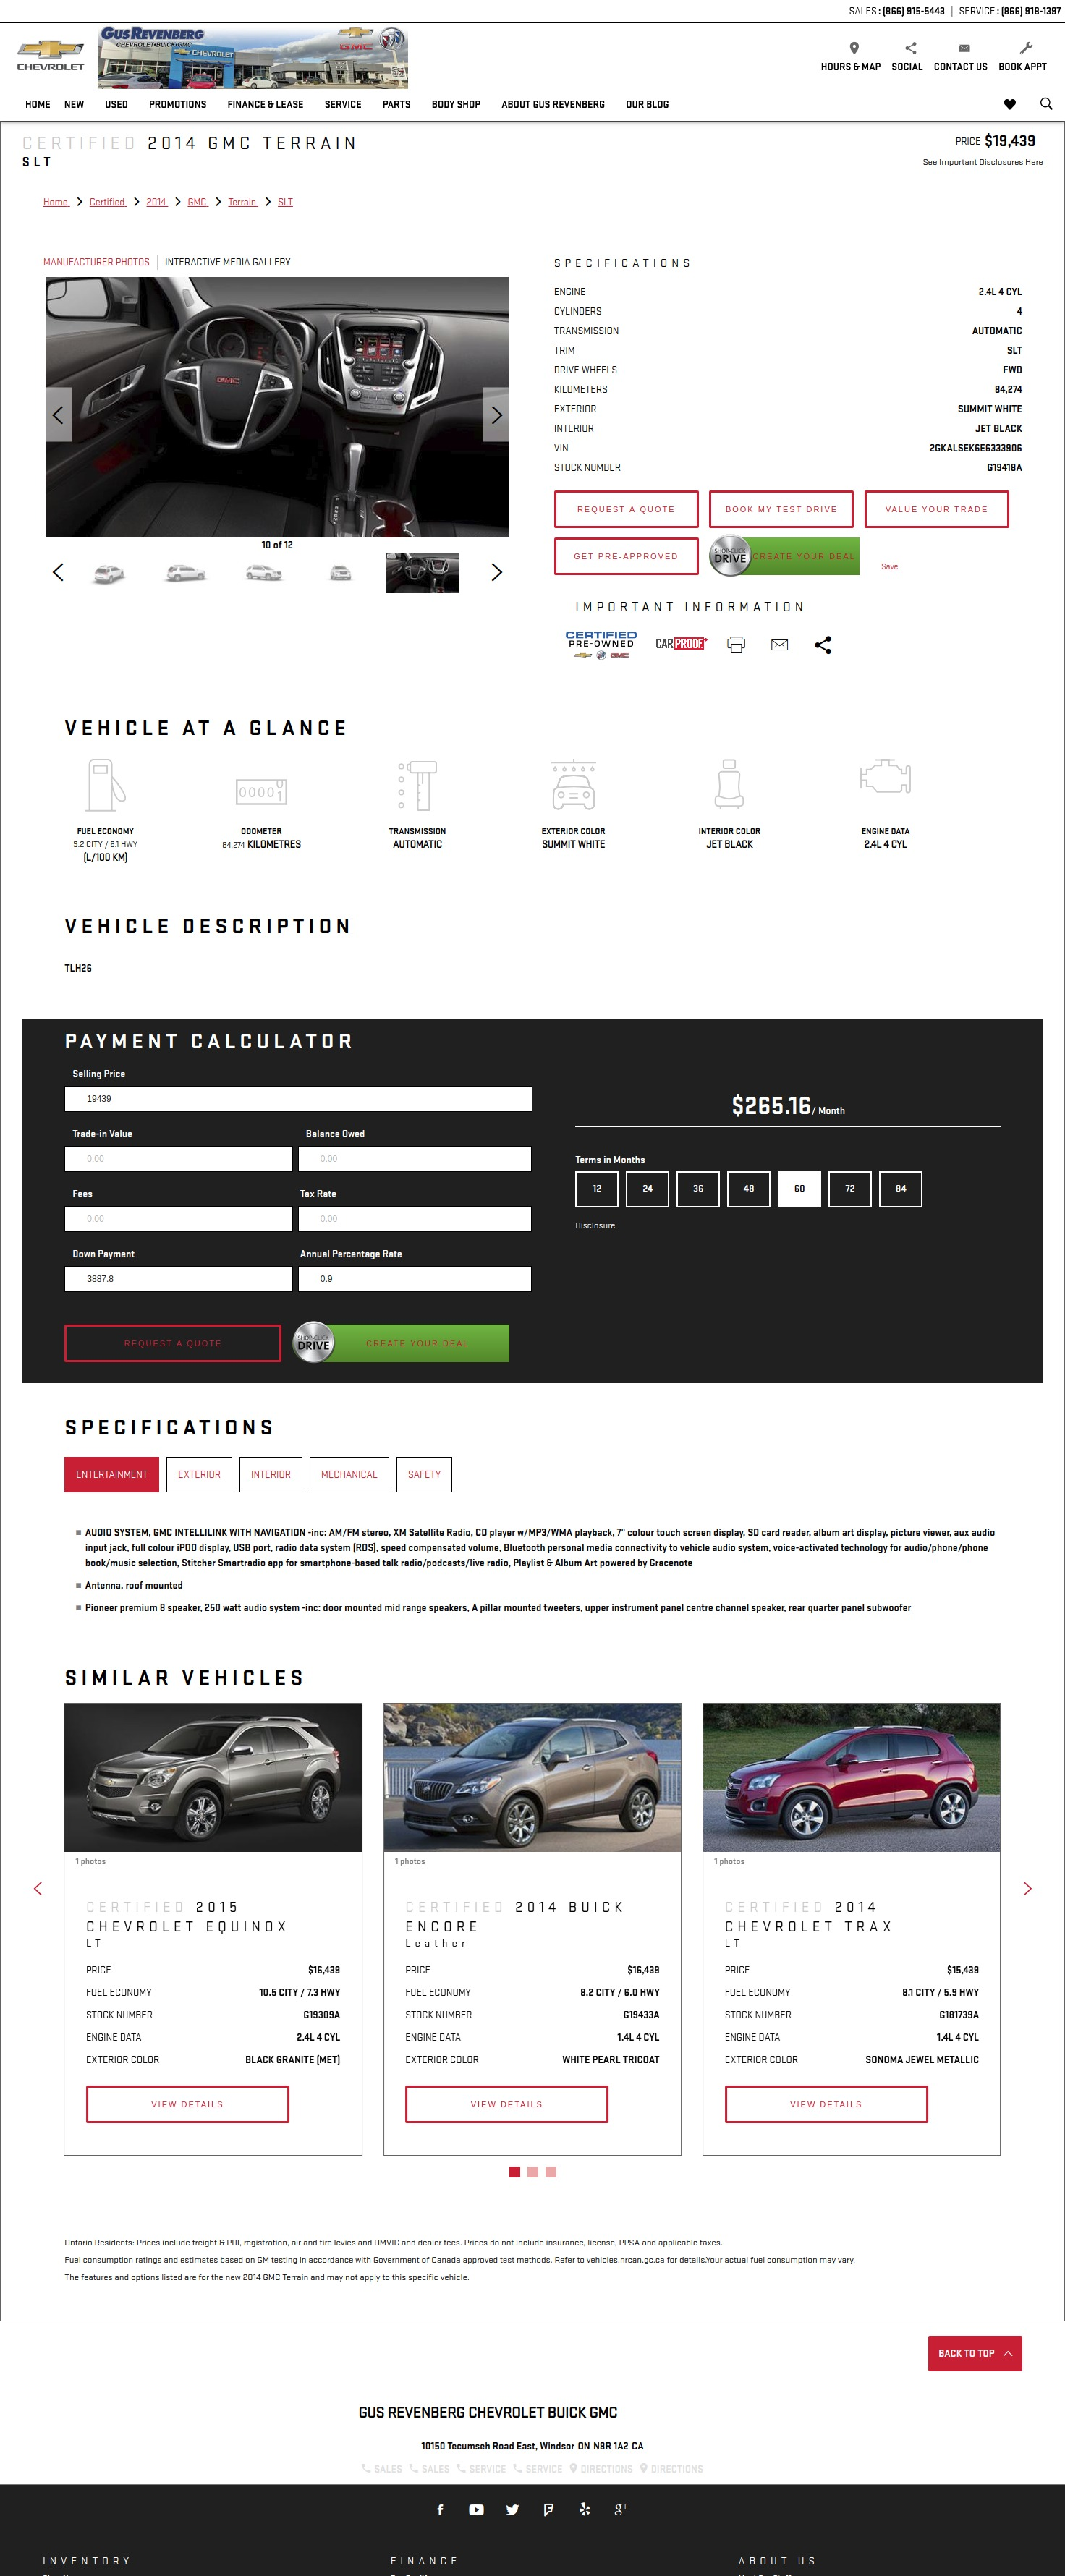car: (491, 563, 503, 582)
